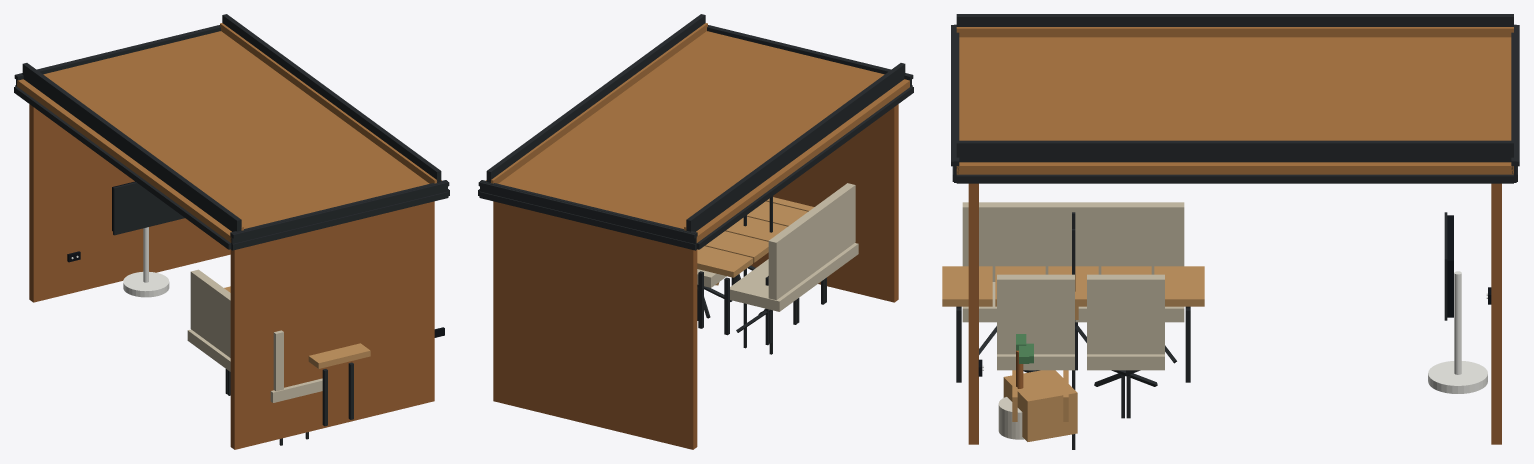
Rendered from A3_A4_transition_camping_blockout.glb.
3 renders of one model, left to right at view 1: azimuth 30°, elevation 25°; view 2: azimuth 150°, elevation 25°; view 3: azimuth 270°, elevation 25°, orthographic. The views are drawn at different scales.
Visible parts, largest first — view 1: ARCH_TRANSITION_FLAT_ROOF, ARCH_TRANSITION_SOUTH_WALL, ARCH_TRANSITION_NORTH_WALL, ARCH_TRANSITION_A4_ROOF_UPSTAND, ARCH_TRANSITION_A3_ROOF_UPSTAND, DEV_TRANSITION_TV_01_BEZEL, ARCH_TRANSITION_A3_SEAL_STRIP, ARCH_TRANSITION_SOUTH_FASCIA, ARCH_TRANSITION_FLAT_ROOF_WEST_BEAM, FURN_TRANSITION_CAMP_CHAIR_S_03_BACK, ARCH_TRANSITION_FLAT_ROOF_FRONT_BEAM, ARCH_TRANSITION_NORTH_FASCIA (+7 smaller); view 2: ARCH_TRANSITION_NORTH_WALL, ARCH_TRANSITION_FLAT_ROOF, ARCH_TRANSITION_SOUTH_WALL, ARCH_TRANSITION_A4_ROOF_UPSTAND, ARCH_TRANSITION_A3_ROOF_UPSTAND, FURN_TRANSITION_CAMP_CHAIR_S_03_BACK, ARCH_TRANSITION_A3_SEAL_STRIP, ARCH_TRANSITION_NORTH_FASCIA, ARCH_TRANSITION_FLAT_ROOF_WEST_BEAM, FURN_TRANSITION_CAMP_CHAIR_S_02_BACK, FURN_TRANSITION_CAMP_CHAIR_S_03, FURN_TRANSITION_CAMP_CHAIR_S_01_BACK (+8 smaller); view 3: ARCH_TRANSITION_FLAT_ROOF, ARCH_TRANSITION_A3_ROOF_UPSTAND, ARCH_TRANSITION_A4_ROOF_UPSTAND, FURN_TRANSITION_CAMP_CHAIR_N_02_BACK, ARCH_TRANSITION_A4_SEAL_STRIP, FURN_TRANSITION_CAMP_CHAIR_N_01_BACK, ARCH_TRANSITION_FLAT_ROOF_EAST_BEAM, FURN_TRANSITION_CAMP_CHAIR_S_02_BACK, FURN_TRANSITION_CAMP_CHAIR_S_03_BACK, FURN_TRANSITION_CAMP_CHAIR_S_01_BACK, DECOR_TRANSITION_TABLE_CRATE_01, ARCH_TRANSITION_NORTH_WALL (+13 smaller).
Part boxes in pixels (x1=…): ARCH_TRANSITION_FLAT_ROOF: x1=17, y1=31, x2=441, y2=242; ARCH_TRANSITION_SOUTH_WALL: x1=230, y1=201, x2=434, y2=449; ARCH_TRANSITION_NORTH_WALL: x1=29, y1=104, x2=230, y2=302; ARCH_TRANSITION_A4_ROOF_UPSTAND: x1=22, y1=63, x2=241, y2=231; ARCH_TRANSITION_A3_ROOF_UPSTAND: x1=222, y1=14, x2=441, y2=182; DEV_TRANSITION_TV_01_BEZEL: x1=113, y1=182, x2=184, y2=235; ARCH_TRANSITION_A3_SEAL_STRIP: x1=220, y1=23, x2=436, y2=183; ARCH_TRANSITION_SOUTH_FASCIA: x1=230, y1=180, x2=447, y2=250; ARCH_TRANSITION_FLAT_ROOF_WEST_BEAM: x1=14, y1=86, x2=231, y2=249; FURN_TRANSITION_CAMP_CHAIR_S_03_BACK: x1=190, y1=269, x2=228, y2=348; ARCH_TRANSITION_FLAT_ROOF_FRONT_BEAM: x1=231, y1=191, x2=448, y2=250; ARCH_TRANSITION_NORTH_FASCIA: x1=16, y1=25, x2=220, y2=85; ARCH_TRANSITION_NORTH_WALL: x1=493, y1=201, x2=697, y2=449; ARCH_TRANSITION_FLAT_ROOF: x1=486, y1=31, x2=909, y2=242; ARCH_TRANSITION_SOUTH_WALL: x1=751, y1=104, x2=898, y2=302; ARCH_TRANSITION_A4_ROOF_UPSTAND: x1=686, y1=63, x2=905, y2=231; ARCH_TRANSITION_A3_ROOF_UPSTAND: x1=486, y1=14, x2=705, y2=182; FURN_TRANSITION_CAMP_CHAIR_S_03_BACK: x1=768, y1=220, x2=804, y2=300; ARCH_TRANSITION_A3_SEAL_STRIP: x1=491, y1=23, x2=707, y2=183; ARCH_TRANSITION_NORTH_FASCIA: x1=480, y1=180, x2=697, y2=250; ARCH_TRANSITION_FLAT_ROOF_WEST_BEAM: x1=696, y1=86, x2=913, y2=249; FURN_TRANSITION_CAMP_CHAIR_S_02_BACK: x1=796, y1=199, x2=833, y2=279; FURN_TRANSITION_CAMP_CHAIR_S_03: x1=730, y1=268, x2=808, y2=311; FURN_TRANSITION_CAMP_CHAIR_S_01_BACK: x1=824, y1=183, x2=855, y2=259; ARCH_TRANSITION_FLAT_ROOF: x1=956, y1=37, x2=1513, y2=174; ARCH_TRANSITION_A3_ROOF_UPSTAND: x1=956, y1=140, x2=1513, y2=162; ARCH_TRANSITION_A4_ROOF_UPSTAND: x1=956, y1=14, x2=1513, y2=26; FURN_TRANSITION_CAMP_CHAIR_N_02_BACK: x1=1087, y1=274, x2=1164, y2=354; ARCH_TRANSITION_A4_SEAL_STRIP: x1=956, y1=27, x2=1513, y2=37; FURN_TRANSITION_CAMP_CHAIR_N_01_BACK: x1=997, y1=274, x2=1074, y2=354; ARCH_TRANSITION_FLAT_ROOF_EAST_BEAM: x1=956, y1=174, x2=1513, y2=183; FURN_TRANSITION_CAMP_CHAIR_S_02_BACK: x1=1034, y1=202, x2=1112, y2=274; FURN_TRANSITION_CAMP_CHAIR_S_03_BACK: x1=1106, y1=202, x2=1184, y2=274; FURN_TRANSITION_CAMP_CHAIR_S_01_BACK: x1=962, y1=202, x2=1040, y2=281; DECOR_TRANSITION_TABLE_CRATE_01: x1=1003, y1=370, x2=1077, y2=441; ARCH_TRANSITION_NORTH_WALL: x1=1491, y1=183, x2=1501, y2=444.
Bounding box in the file's own units: 2.25 × 2.67 × 3.85.
